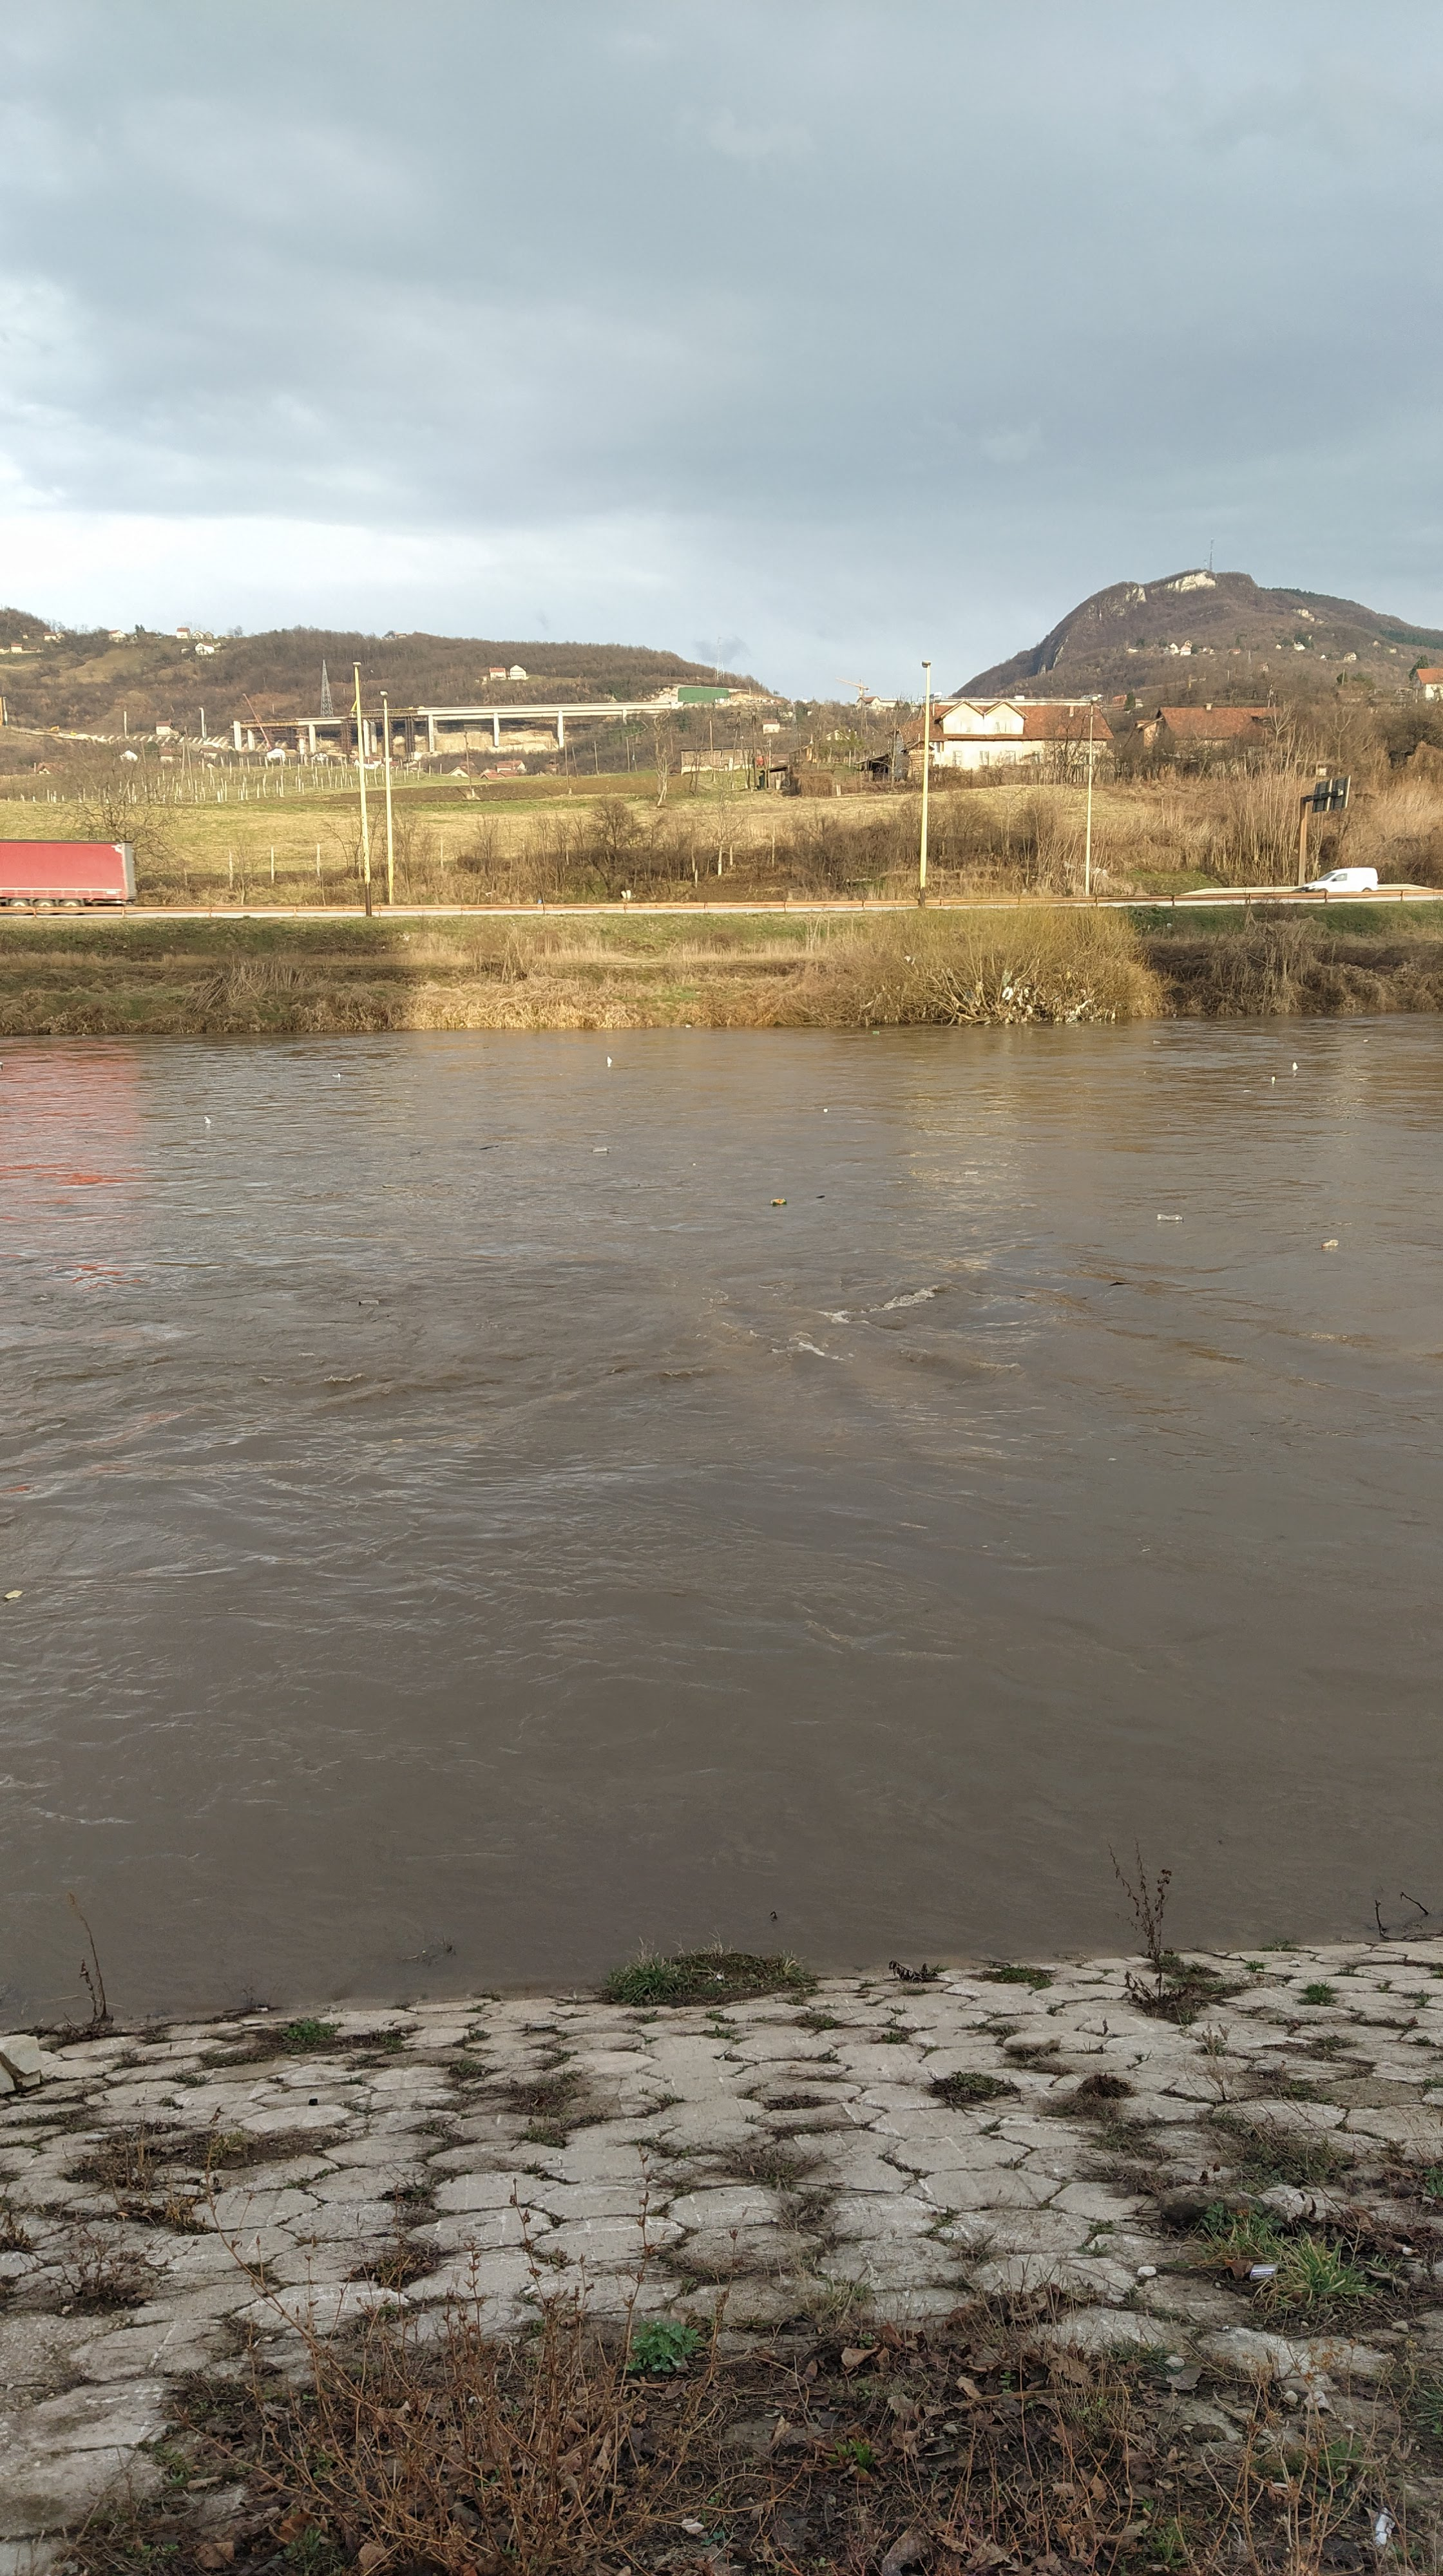Plastic Bottle: (1156, 1214, 1184, 1223), (358, 1299, 379, 1306), (1321, 1238, 1337, 1247), (591, 1146, 611, 1152), (770, 1198, 786, 1203), (873, 1030, 880, 1035), (1153, 1040, 1160, 1044)
